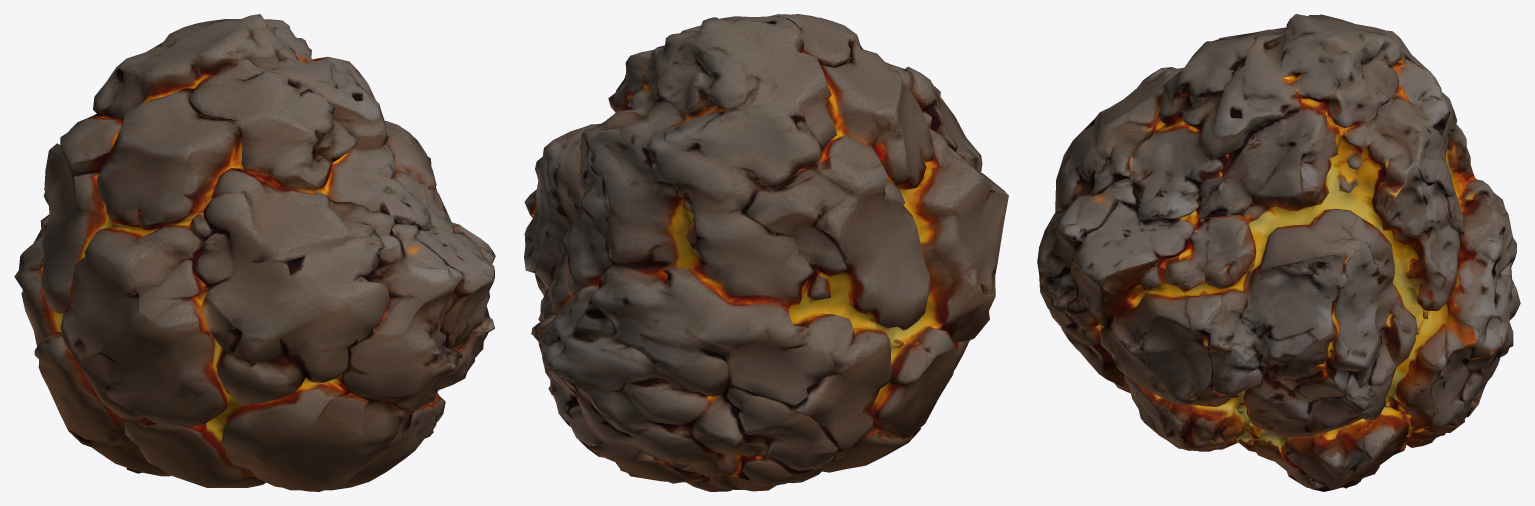
File: meteor-great.glb
The picture shows the model from 3 angles, left to right: view 1: azimuth 30°, elevation 25°; view 2: azimuth 150°, elevation 25°; view 3: azimuth 270°, elevation 25°; orthographic projection. The views are drawn at different scales.
Parts seen in each view (by area): view 1: tripo_node_6e4dfbbf-4d47-40b5-81db-27726f0f2e15; view 2: tripo_node_6e4dfbbf-4d47-40b5-81db-27726f0f2e15; view 3: tripo_node_6e4dfbbf-4d47-40b5-81db-27726f0f2e15.
Part boxes in pixels (<box>): tripo_node_6e4dfbbf-4d47-40b5-81db-27726f0f2e15: <box>14,14,495,491</box>; tripo_node_6e4dfbbf-4d47-40b5-81db-27726f0f2e15: <box>524,14,1008,491</box>; tripo_node_6e4dfbbf-4d47-40b5-81db-27726f0f2e15: <box>1037,14,1520,491</box>.
Bounding box in the file's own units: 0.9335 × 0.9472 × 0.998.
1 material, 1 textured.
